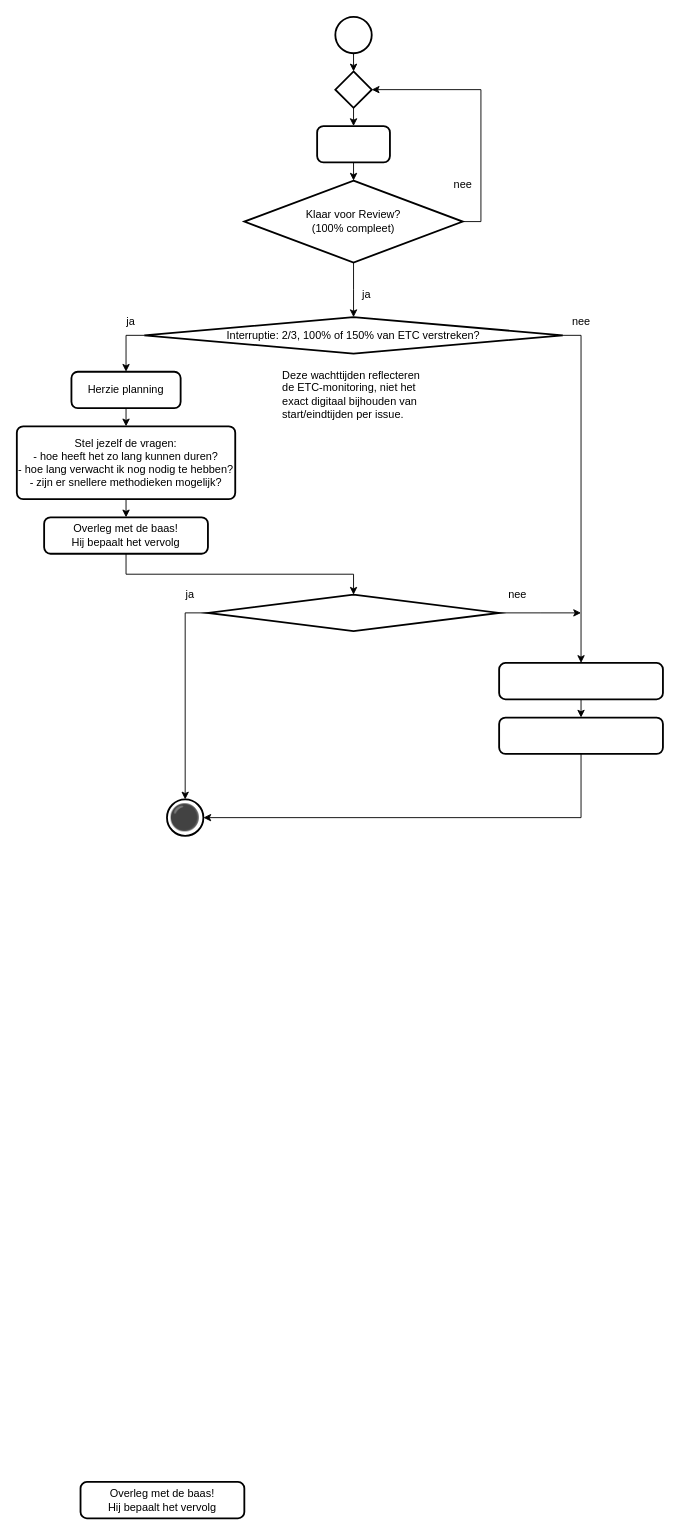
Some shapes in this 679 by 1534 pixel diagram are drawn without their labels. Here are the shapes that lost their labels. From the top down, the centre of each, then its label:
At point 353,144: "Schrijf Code".
At point 353,612: "150% van ETC verstreken?".
At point 580,681: "Ga door met ontwikkeling".
At point 580,735: "Ga door naar Test".
